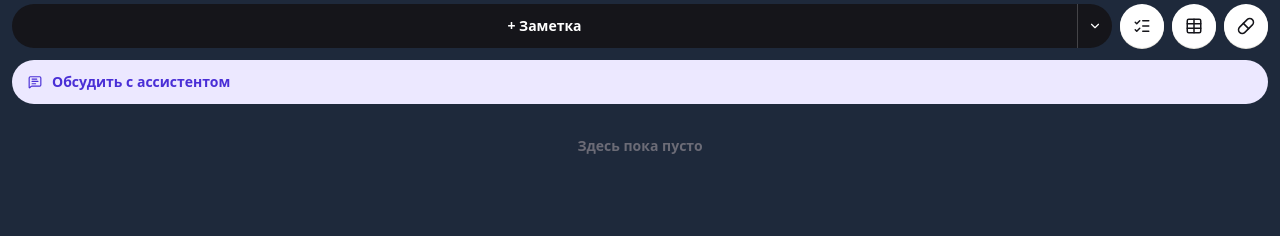
NoteList — «Обсудить с ассистентом» › клик при 1+ прошлых диалогах открывает пикер вместо немедленного создания
The image size is (1280, 236).
Click the button "Обсудить с ассистентом": (141, 82) [12, 60, 1268, 104]
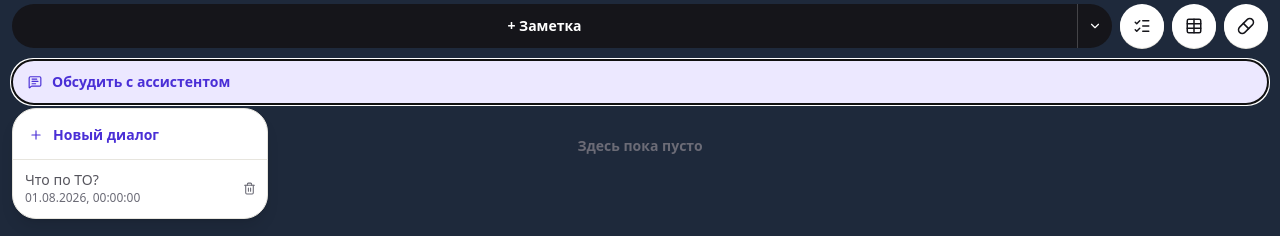
Now the text "Что по ТО?" is shown, box [25, 170, 99, 189]
Now the button "Новый диалог" is shown, box [13, 115, 267, 155]
